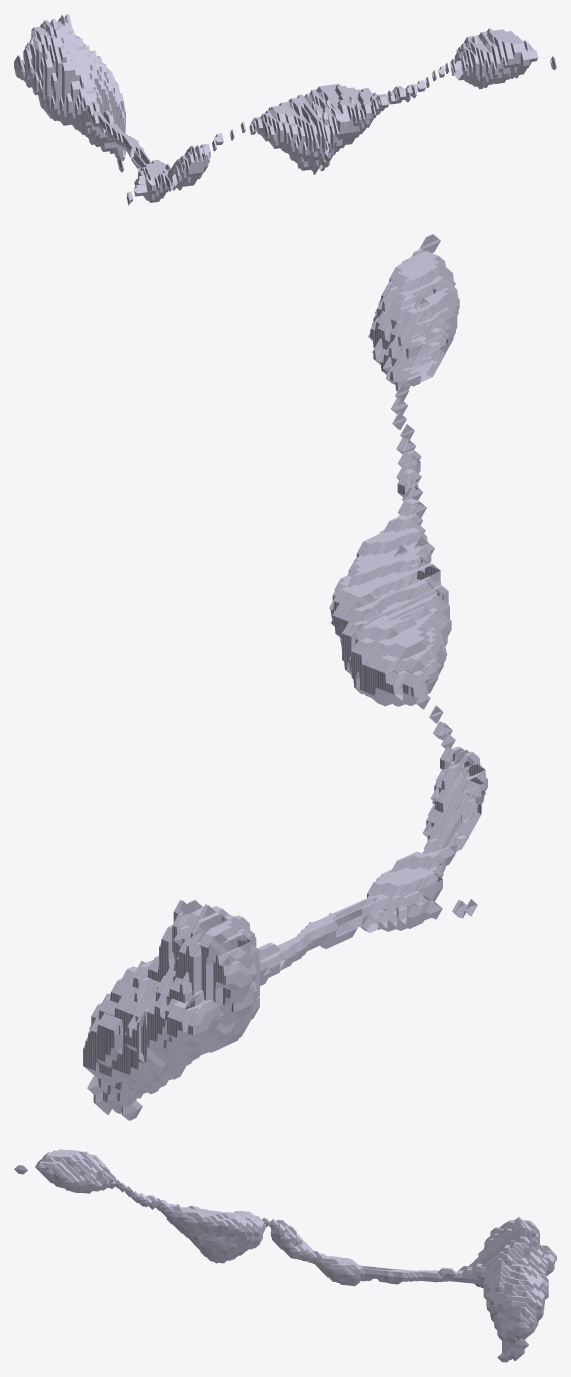
Rendered from SVV_ALNR.gltf.
3 renders of one model, top to bottom at view 1: azimuth 30°, elevation 25°; view 2: azimuth 150°, elevation 25°; view 3: azimuth 270°, elevation 25°, orthographic. The views are drawn at different scales.
Parts seen in each view (by area): view 1: ALNR; view 2: ALNR; view 3: ALNR.
Boxes of the visible parts, <box> form: ALNR: <box>14,14,556,205</box>; ALNR: <box>83,234,487,1120</box>; ALNR: <box>14,1149,556,1362</box>.
Bounding box in the file's own units: 27846 × 36924 × 73739.
